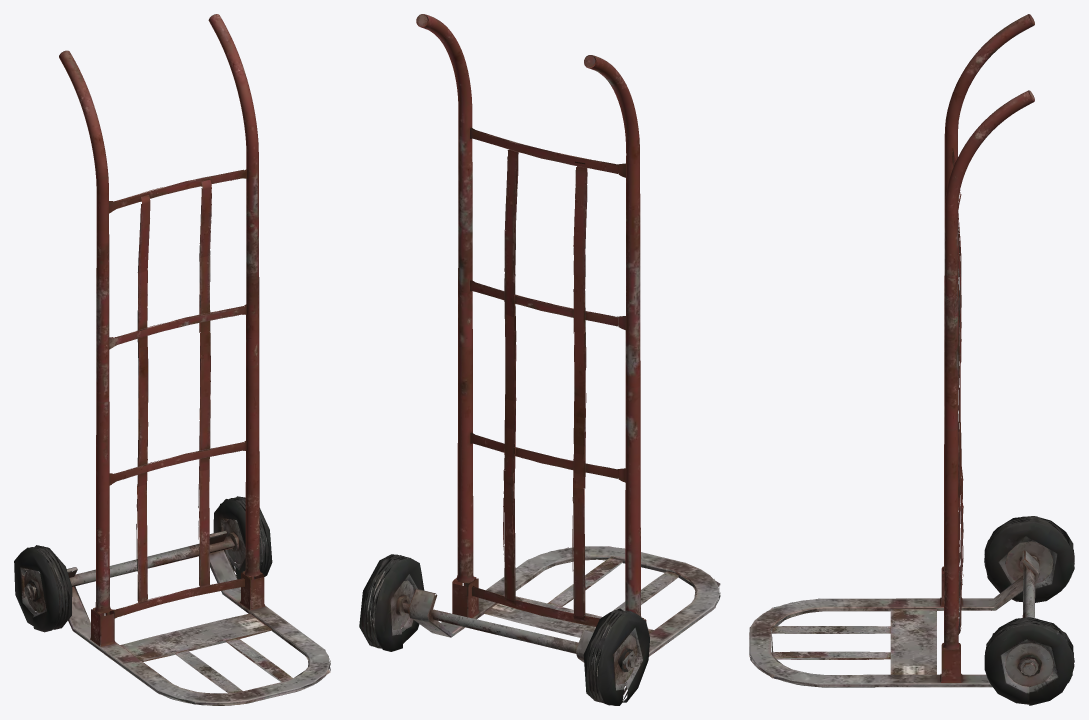
The model's file is hand_truck.glb.
The picture shows the model from 3 angles, left to right: view 1: azimuth 30°, elevation 25°; view 2: azimuth 150°, elevation 25°; view 3: azimuth 270°, elevation 25°; orthographic projection. The views are drawn at different scales.
Visible parts, largest first — view 1: hand_truck; view 2: hand_truck; view 3: hand_truck.
Part boxes in pixels (x1,y1,x2,y2): hand_truck: [14, 14, 330, 705]; hand_truck: [359, 14, 720, 705]; hand_truck: [749, 14, 1074, 705].
Bounding box in the file's own units: 0.5932 × 1.41 × 0.6932.
Materials: 1 (1 with a texture image).
